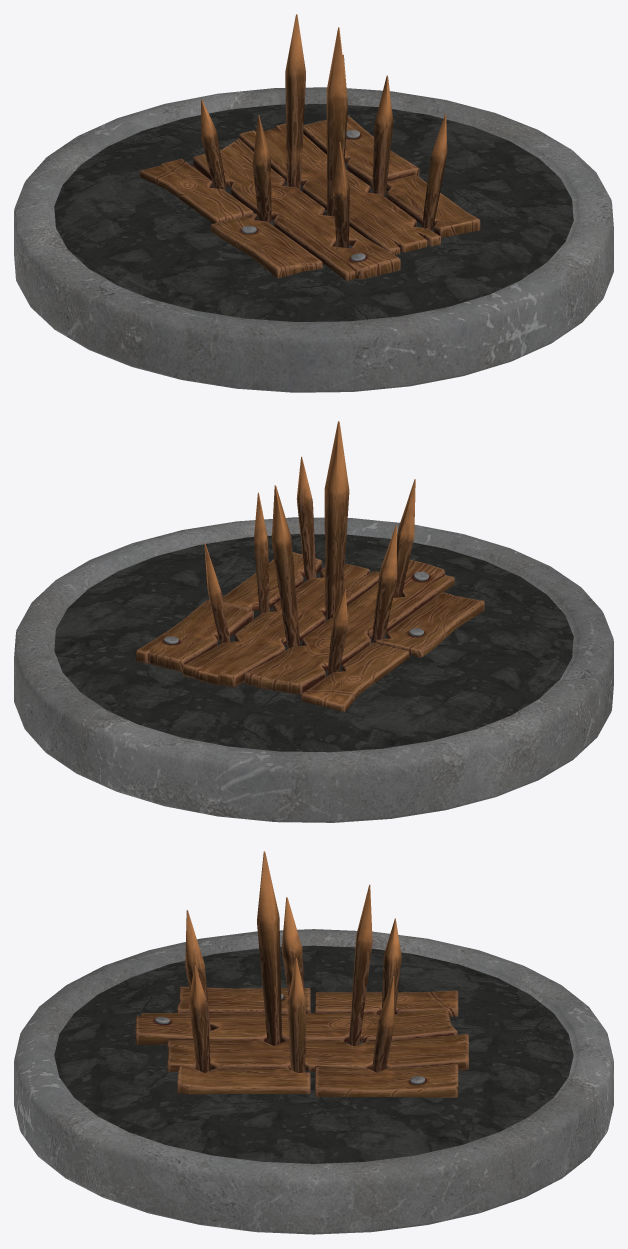
Rendered from wooden_spike_trap.glb.
The picture shows the model from 3 angles, top to bottom: view 1: azimuth 30°, elevation 25°; view 2: azimuth 150°, elevation 25°; view 3: azimuth 270°, elevation 25°; orthographic projection.
Parts seen in each view (by area): view 1: Cylinder, SpikeTeap_Floor_LP.001, SpikeTeap_spike_LP.002; view 2: Cylinder, SpikeTeap_Floor_LP.001, SpikeTeap_spike_LP.002; view 3: Cylinder, SpikeTeap_Floor_LP.001, SpikeTeap_spike_LP.002.
Boxes of the visible parts, left/top/right/bottom form: Cylinder: left=14, top=87, right=613, bottom=392; SpikeTeap_Floor_LP.001: left=139, top=115, right=480, bottom=280; SpikeTeap_spike_LP.002: left=201, top=14, right=447, bottom=248; Cylinder: left=14, top=517, right=613, bottom=822; SpikeTeap_Floor_LP.001: left=135, top=552, right=484, bottom=711; SpikeTeap_spike_LP.002: left=204, top=421, right=415, bottom=674; Cylinder: left=14, top=929, right=613, bottom=1234; SpikeTeap_Floor_LP.001: left=135, top=986, right=468, bottom=1097; SpikeTeap_spike_LP.002: left=185, top=851, right=401, bottom=1072.
Bounding box in the file's own units: 245 × 116 × 245.
3 materials, 3 textured.
